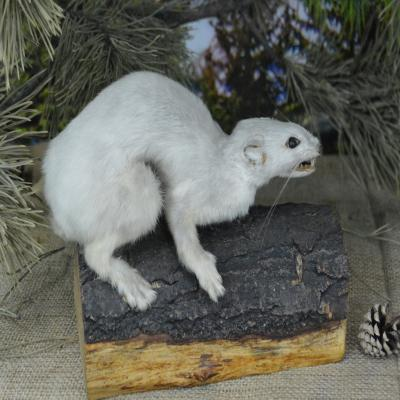natural_science_collection: (40, 71, 321, 312)
